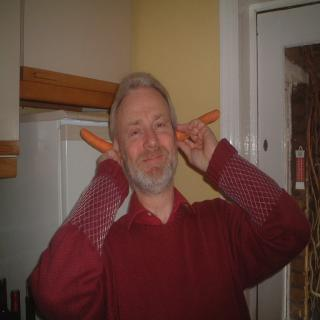Carrot: (174, 108, 221, 140), (79, 126, 123, 160)
